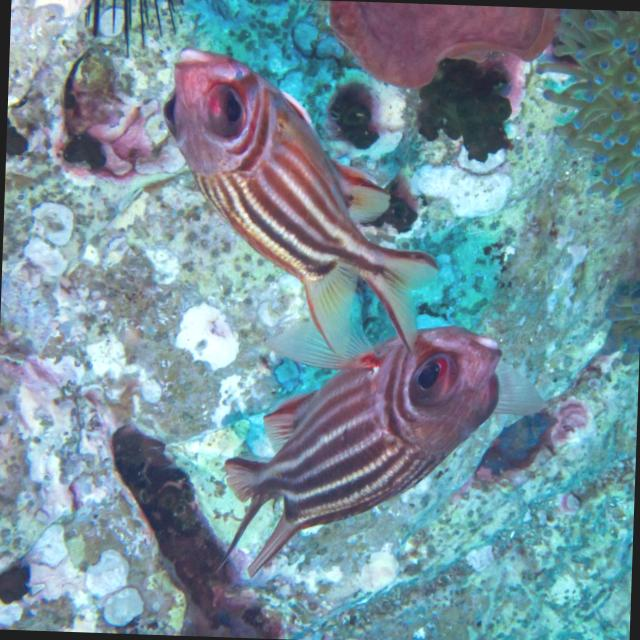Asker Baligi: (152, 44, 448, 360), (211, 312, 506, 590)
